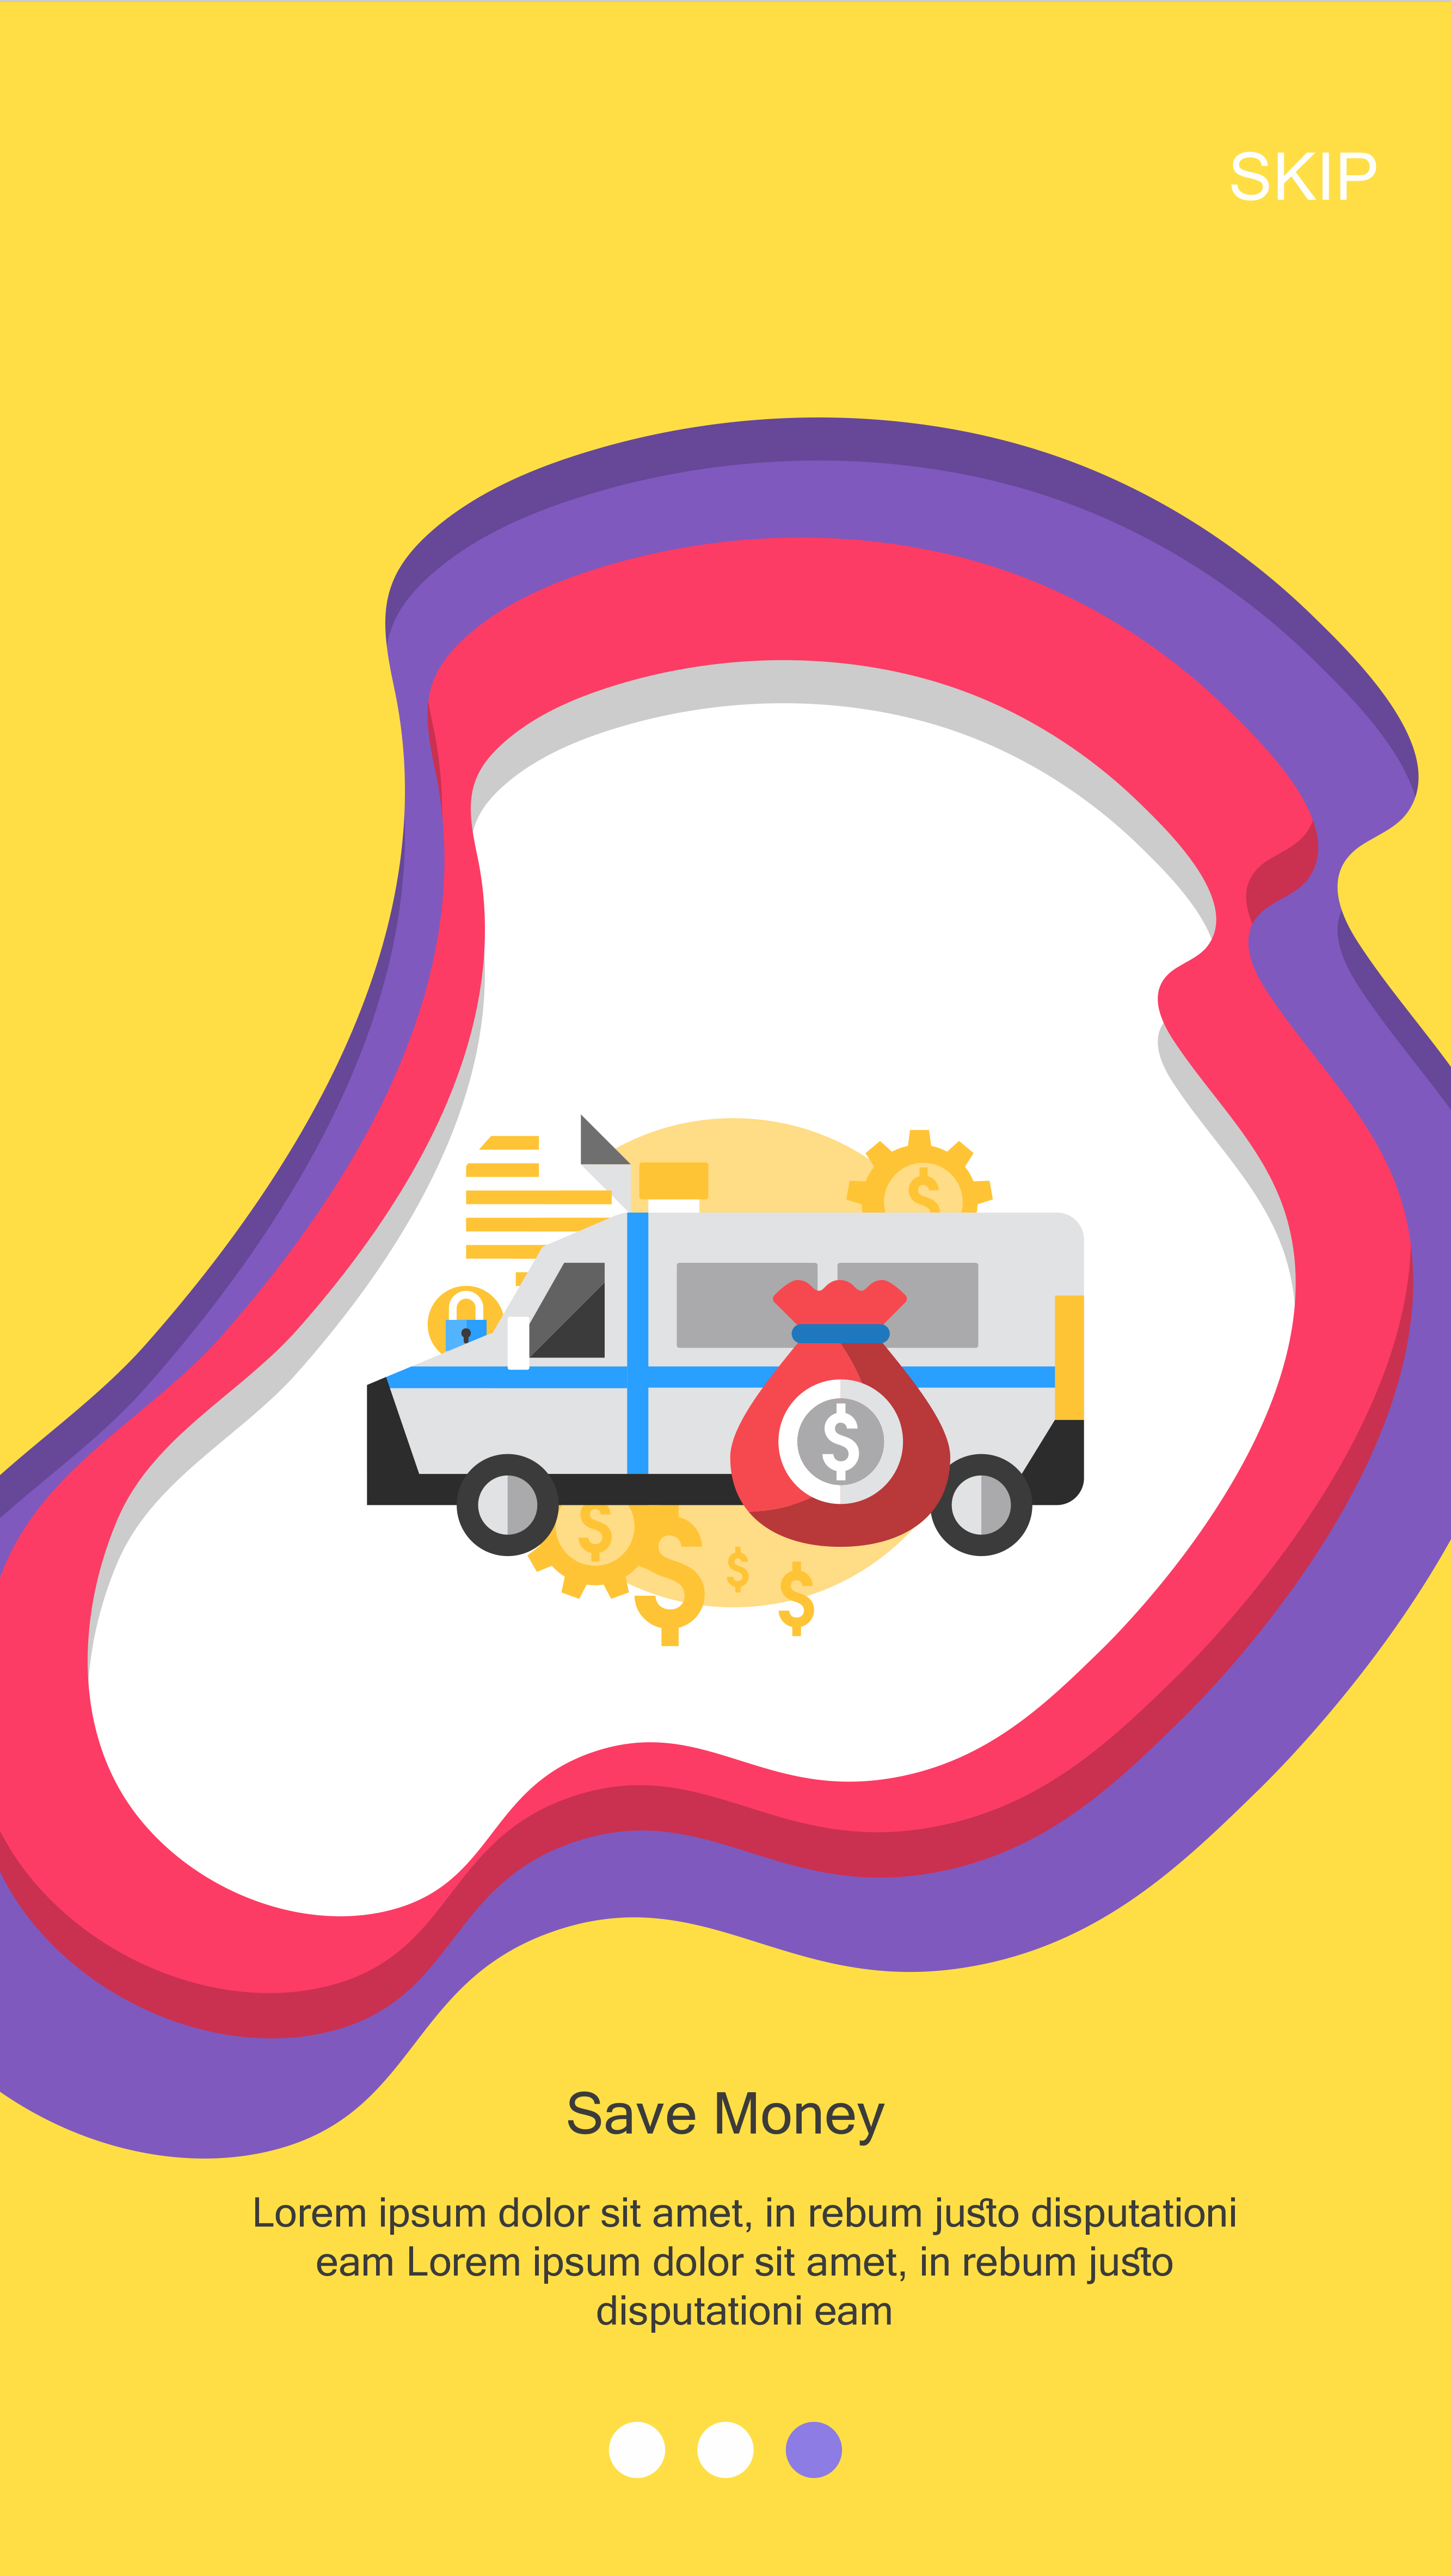BackgroundImage: (7, 4, 1451, 2576)
Image: (366, 1113, 1086, 1647)
PageIndicator: (609, 2420, 844, 2480)
Text: (255, 2196, 1237, 2334), (566, 2089, 887, 2146), (1230, 150, 1378, 203)
